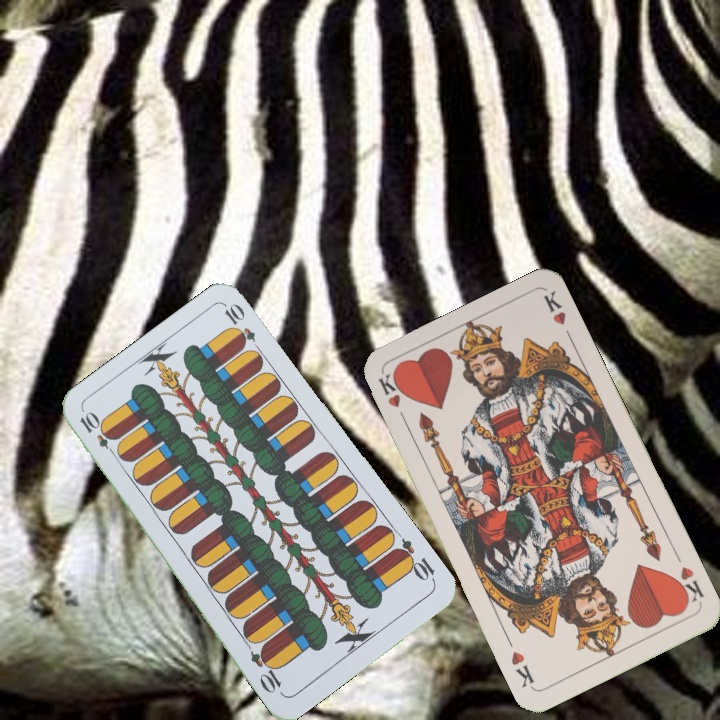E10: (390, 534, 438, 585), (75, 408, 121, 460)
HK: (374, 370, 410, 427), (670, 562, 707, 608)
